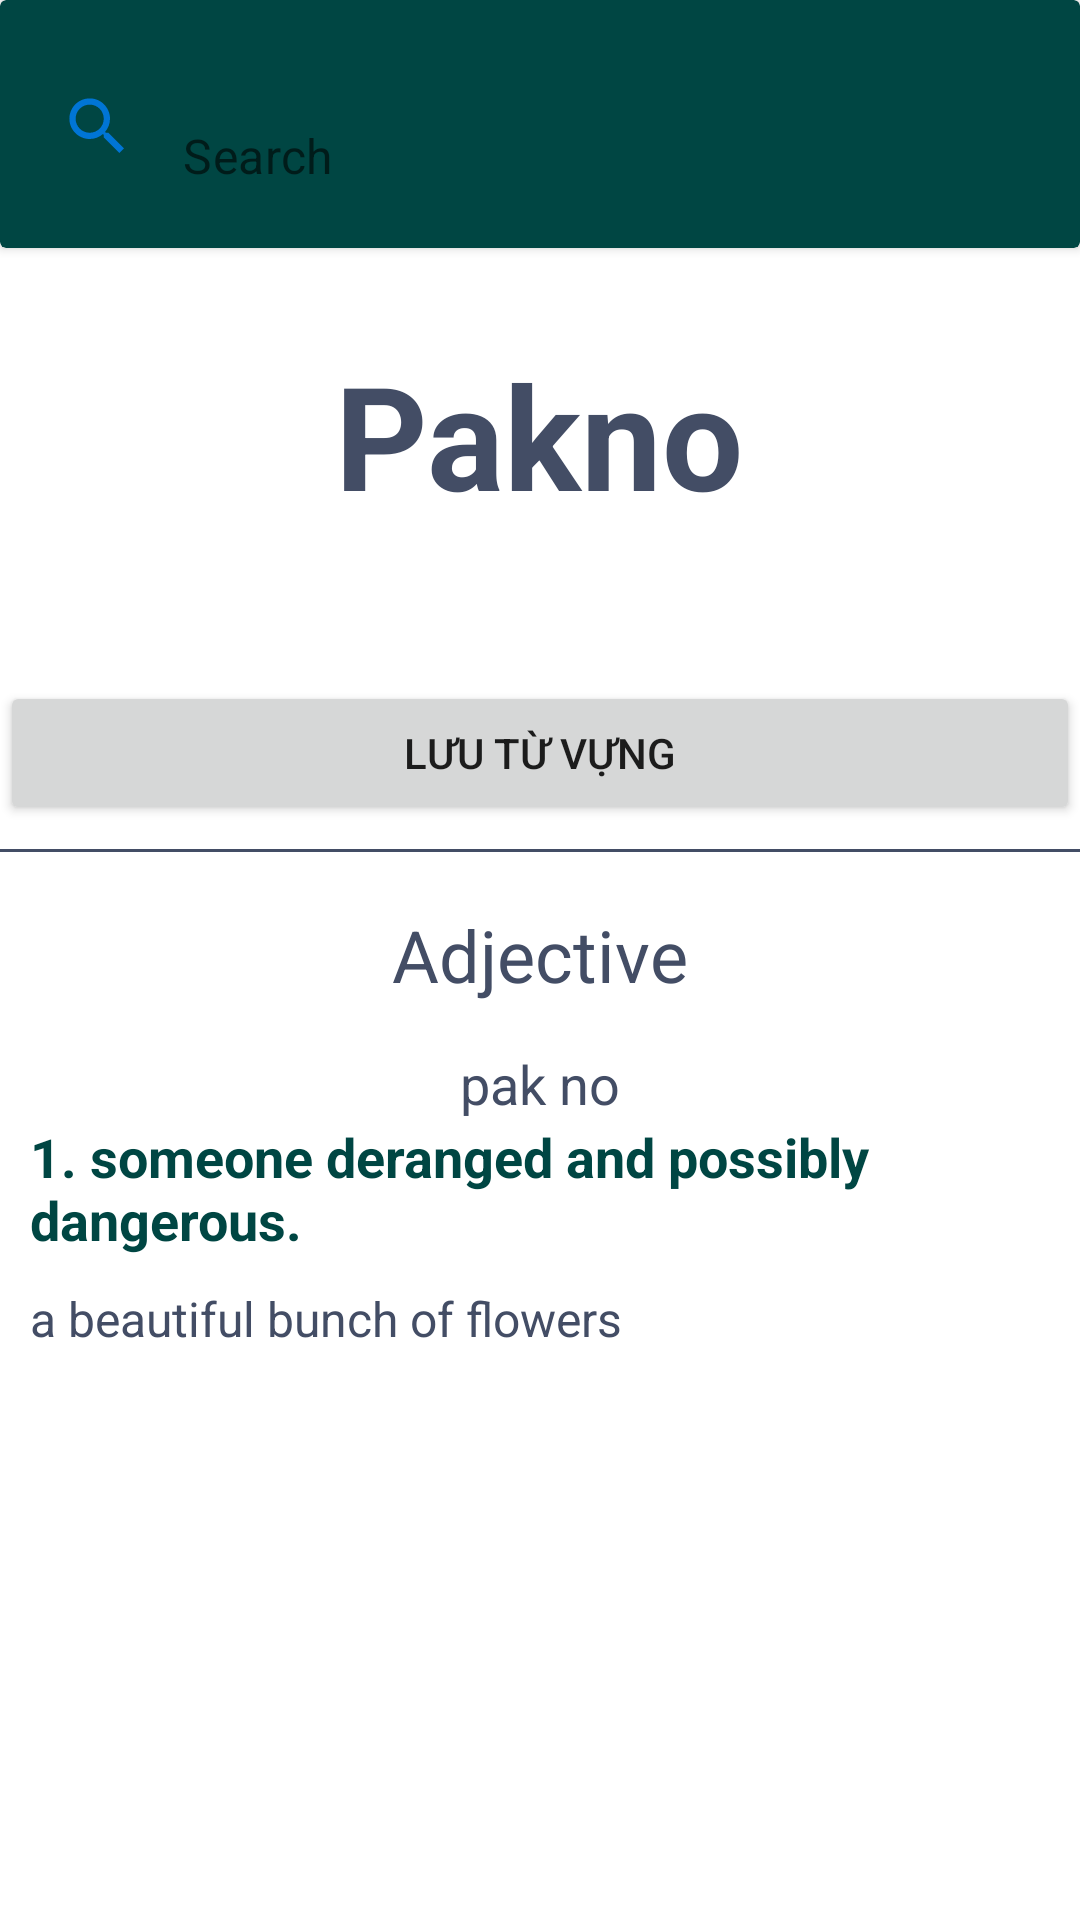

Icon bounding boxes for this 1080 x 1920 phone screenshot, format (x1, y1, x2, y2):
search: (69, 98, 124, 153)
